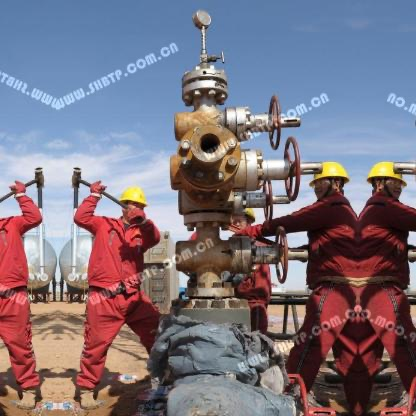Safety Helmet: (308, 156, 354, 202), (365, 157, 408, 204), (116, 179, 151, 225)
